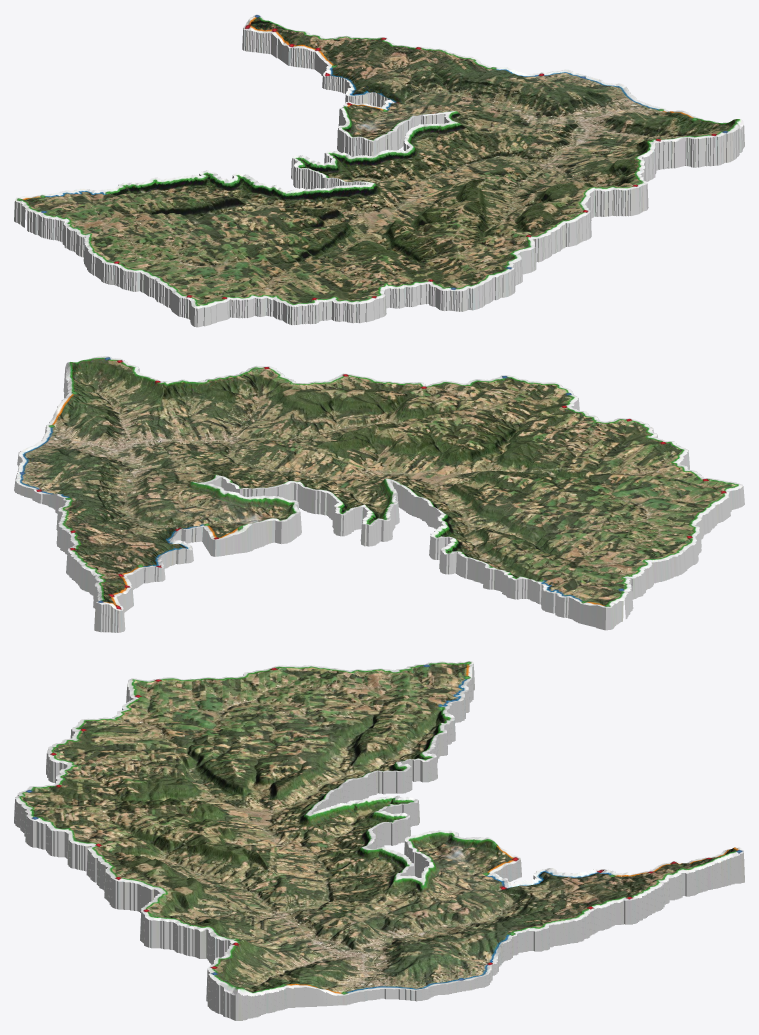
3 renders of one model, top to bottom at view 1: azimuth 30°, elevation 25°; view 2: azimuth 150°, elevation 25°; view 3: azimuth 270°, elevation 25°, orthographic. The views are drawn at different scales.
Size of the model in its own units: 1 by 0.0437 by 0.9154.
Materials: 1 (1 with a texture image).
